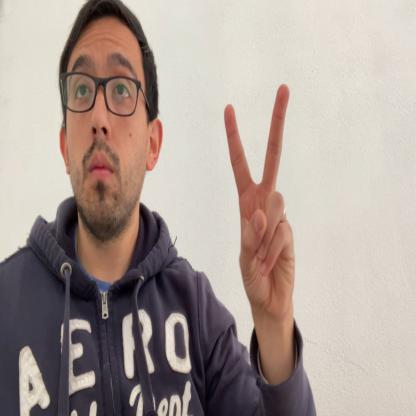V: (224, 84, 295, 319)
